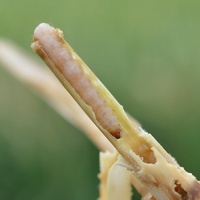insect: (32, 23, 199, 199)
